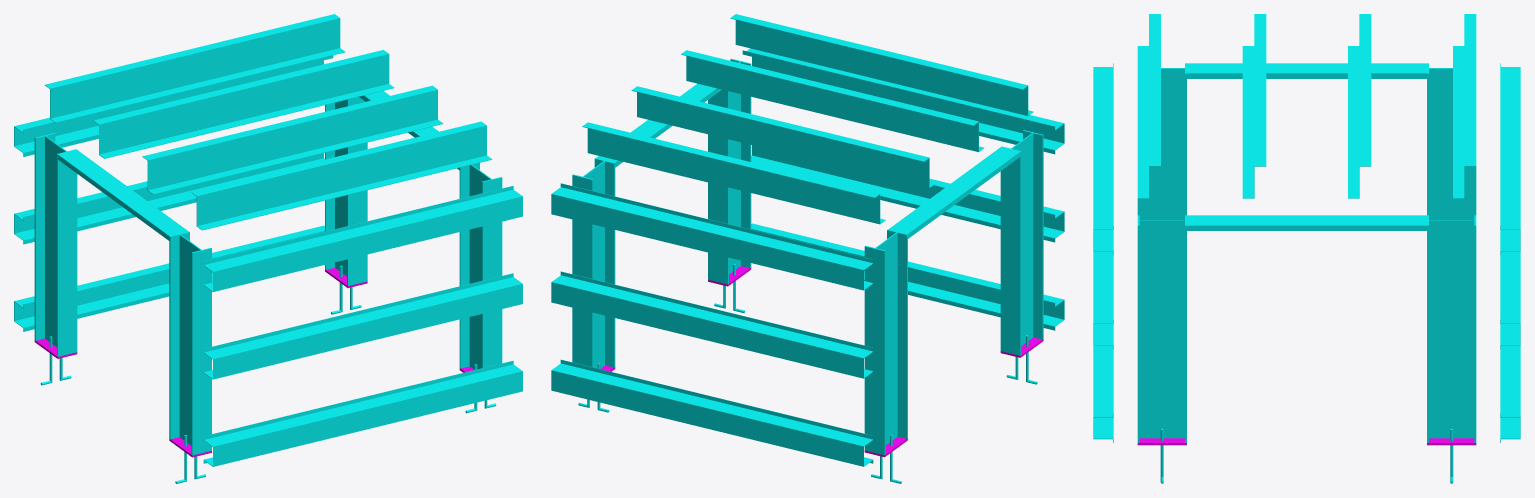
The model's file is teste.dae.
The picture shows the model from 3 angles, left to right: view 1: azimuth 30°, elevation 25°; view 2: azimuth 150°, elevation 25°; view 3: azimuth 270°, elevation 25°; orthographic projection. The views are drawn at different scales.
Visible parts, largest first — view 1: 1601_Z150X50X50X225, 1599_Z150X50X50X225, 1598_Z150X50X50X225, 1600_Z150X50X50X225, 1607_CART20X85X100X200, 1605_CART20X85X100X200, 1606_CART20X85X100X200, 17_W200X2250, 16_W200X2250, 14_W200X2250, 1603_CART20X85X100X200, 1604_CART20X85X100X200 (+3 smaller); view 2: 1602_CART20X85X100X200, 1603_CART20X85X100X200, 1604_CART20X85X100X200, 1600_Z150X50X50X225, 1601_Z150X50X50X225, 1598_Z150X50X50X225, 1599_Z150X50X50X225, 16_W200X2250, 17_W200X2250, 1606_CART20X85X100X200, 15_W200X2250, 1605_CART20X85X100X200 (+4 smaller); view 3: 14_W200X2250, 15_W200X2250, 17_W200X2250, 16_W200X2250, 1602_CART20X85X100X200, 1606_CART20X85X100X200, 1599_Z150X50X50X225, 1615_U100X25X300, 1598_Z150X50X50X225, 1600_Z150X50X50X225, 1601_Z150X50X50X225, 1617_U100X25X300 (+4 smaller).
Part boxes in pixels (x1,y1,x2,y2): 1601_Z150X50X50X225: (191, 121, 492, 230); 1599_Z150X50X50X225: (142, 85, 443, 194); 1598_Z150X50X50X225: (94, 50, 394, 158); 1600_Z150X50X50X225: (45, 14, 345, 122); 1607_CART20X85X100X200: (203, 360, 522, 466); 1605_CART20X85X100X200: (203, 273, 522, 379); 1606_CART20X85X100X200: (203, 186, 522, 291); 17_W200X2250: (34, 133, 77, 356); 16_W200X2250: (169, 231, 211, 455); 14_W200X2250: (459, 163, 502, 369); 1603_CART20X85X100X200: (14, 225, 324, 331); 1604_CART20X85X100X200: (14, 153, 324, 244); 1602_CART20X85X100X200: (551, 183, 873, 290); 1603_CART20X85X100X200: (551, 359, 873, 466); 1604_CART20X85X100X200: (551, 271, 873, 378); 1600_Z150X50X50X225: (582, 122, 885, 224); 1601_Z150X50X50X225: (730, 14, 1033, 115); 1598_Z150X50X50X225: (631, 86, 934, 188); 1599_Z150X50X50X225: (681, 50, 983, 152); 16_W200X2250: (1000, 130, 1043, 355); 17_W200X2250: (864, 229, 907, 455); 1606_CART20X85X100X200: (742, 48, 1064, 154); 15_W200X2250: (572, 158, 615, 368); 1605_CART20X85X100X200: (751, 145, 1064, 242); 14_W200X2250: (1137, 215, 1186, 442); 15_W200X2250: (1427, 215, 1476, 442); 17_W200X2250: (1427, 63, 1476, 220); 16_W200X2250: (1137, 63, 1186, 220); 1602_CART20X85X100X200: (1500, 63, 1520, 255); 1606_CART20X85X100X200: (1093, 63, 1113, 255); 1599_Z150X50X50X225: (1242, 14, 1266, 198); 1615_U100X25X300: (1187, 215, 1426, 230); 1598_Z150X50X50X225: (1348, 14, 1371, 198); 1600_Z150X50X50X225: (1453, 14, 1476, 198); 1601_Z150X50X50X225: (1137, 14, 1160, 198); 1617_U100X25X300: (1187, 63, 1426, 78).
Bounding box in the file's own units: 1.65 × 1.78 × 1.43.
